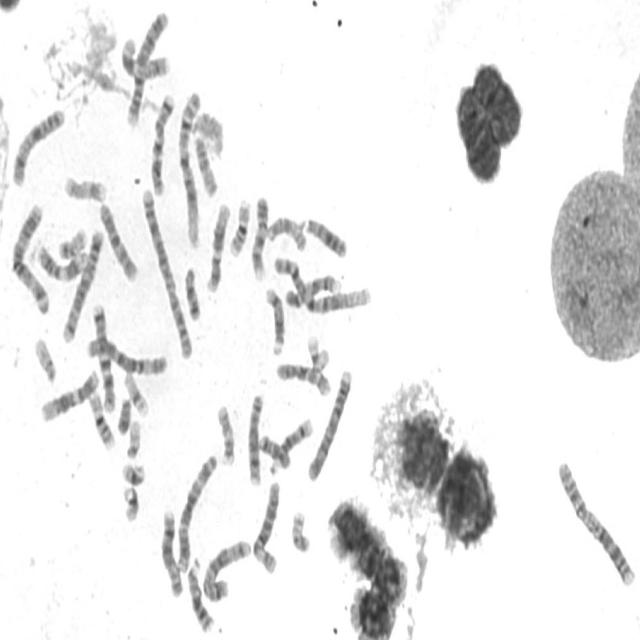A1: (271, 252, 372, 314), (175, 84, 203, 250)
A2: (554, 456, 637, 589), (139, 183, 194, 361)
A3: (174, 448, 219, 574), (9, 200, 52, 316)
B4: (305, 364, 354, 484), (123, 6, 170, 129)
B5: (59, 224, 105, 344), (200, 534, 253, 604)
C10: (96, 198, 140, 284), (274, 358, 333, 398)
C11: (31, 238, 89, 284), (118, 31, 171, 80)
C12: (38, 364, 101, 424), (204, 198, 231, 294)
C6: (84, 332, 169, 378), (250, 476, 282, 576)
C7: (88, 298, 117, 414), (148, 88, 177, 198)
C8: (158, 505, 184, 598), (244, 389, 266, 488)
C9: (283, 270, 342, 310), (248, 191, 270, 283)
D13: (184, 553, 216, 633), (299, 212, 349, 260)
D14: (266, 413, 314, 477), (262, 283, 286, 357)
D15: (189, 106, 225, 158), (264, 211, 308, 253)
E16: (85, 386, 116, 452), (226, 194, 252, 258)
E17: (214, 400, 237, 468), (61, 171, 108, 204)
E18: (257, 430, 292, 471), (182, 262, 202, 322)
F19: (121, 368, 150, 418), (304, 328, 332, 374)
F20: (56, 223, 88, 261), (288, 506, 312, 554)
G21: (120, 481, 140, 524), (119, 458, 146, 487)
G22: (32, 332, 58, 384), (124, 415, 142, 460)
X: (10, 104, 66, 188)
Y: (115, 394, 132, 436)
